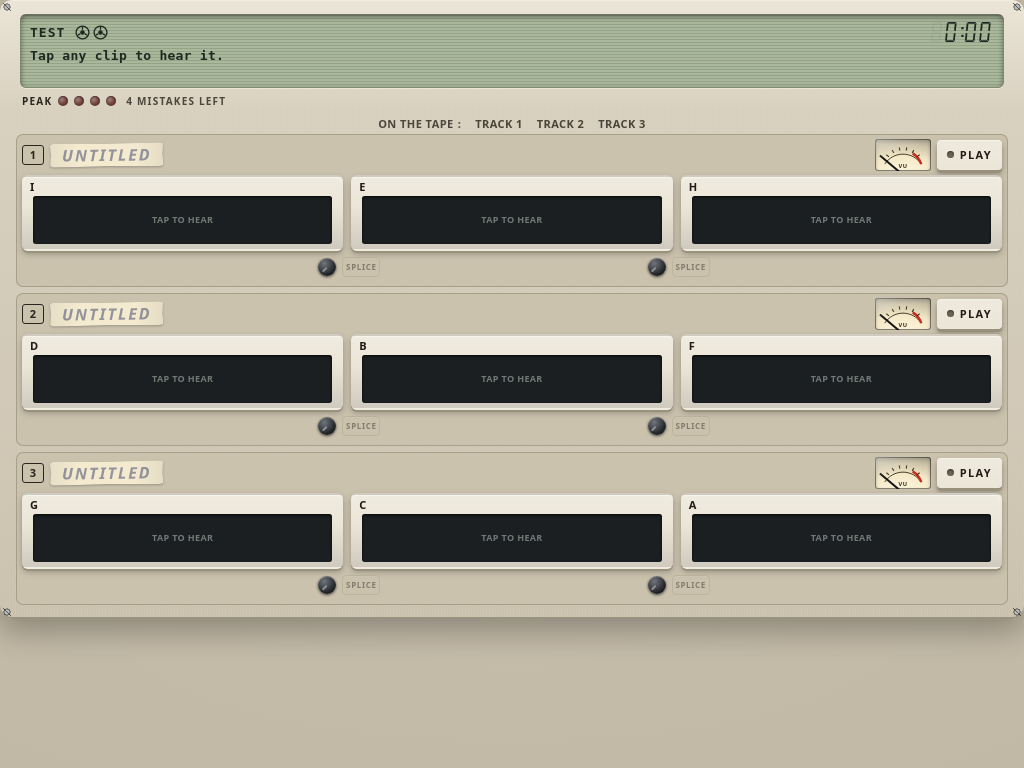
Test: Puzzle › splices only a heard join, charging a mistake when it is wrong
The image size is (1024, 768).
expect the button with aria-label "Splice clips" is disabled: met, box [342, 257, 380, 277]
Click the button named "Hear the join" at (327, 267), box [314, 253, 340, 281]
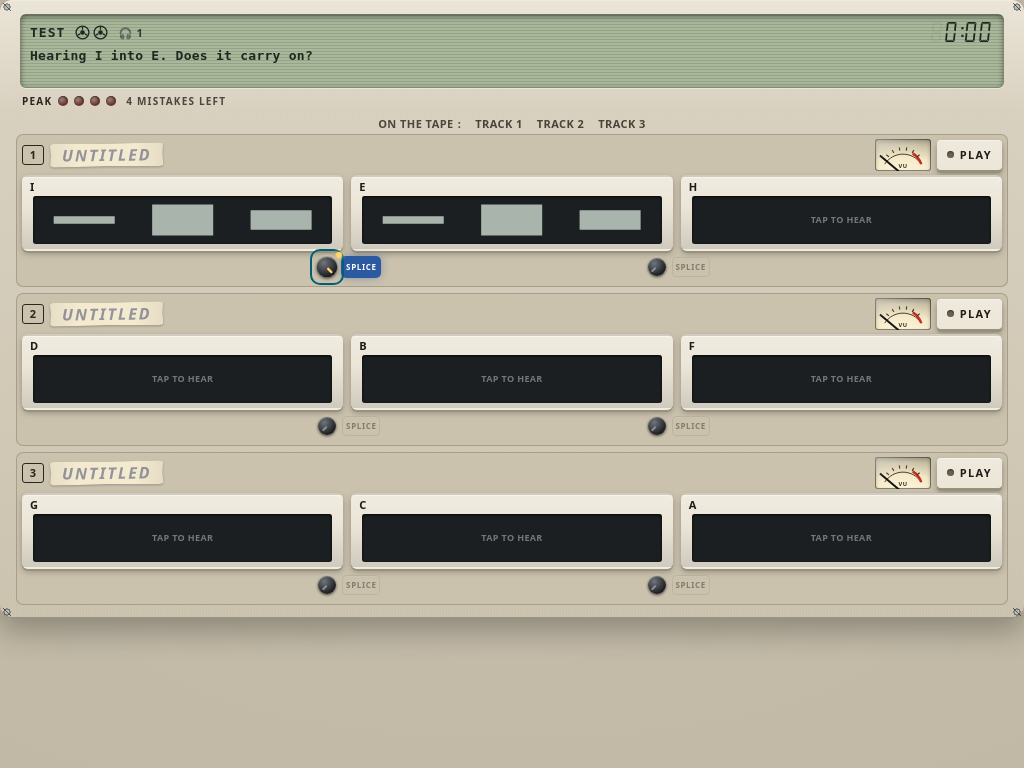
expect the button with aria-label "Splice clips" is enabled: met
Click the button with aria-label "Splice clips" at (361, 267), box [342, 257, 380, 277]
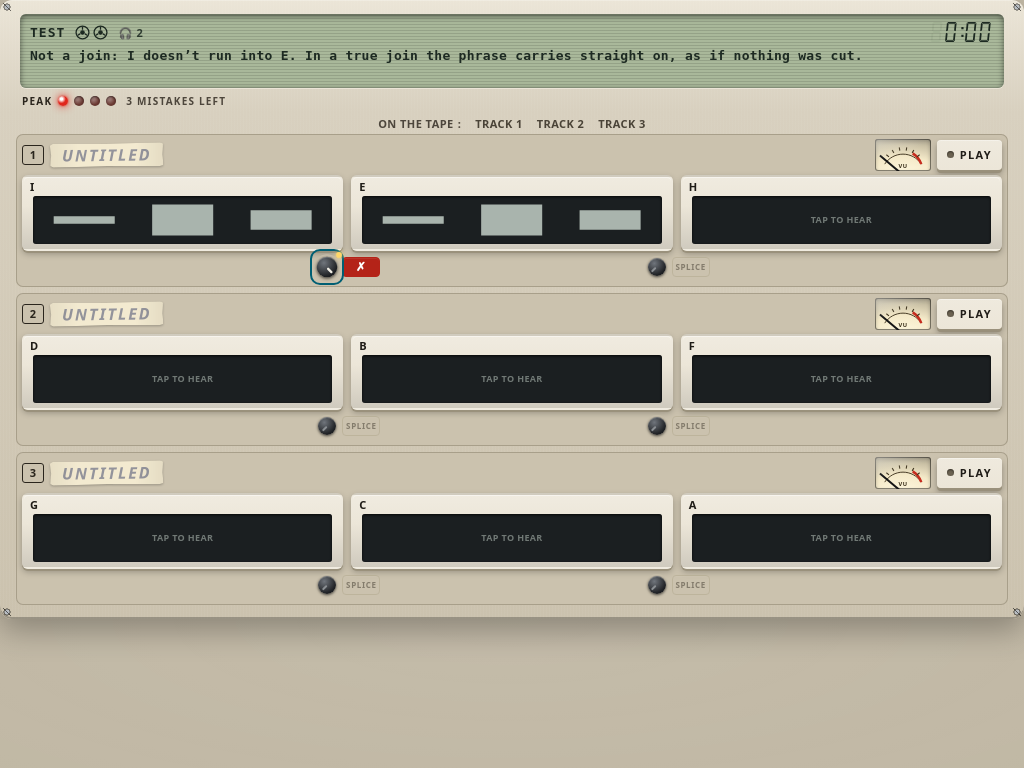
expect the picture named "3 of 4 mistakes left" is shown: met, box [22, 94, 226, 108]
expect the message shows "Not a join": met, box [30, 48, 863, 63]
expect the button named ": not a join" is disabled: met, box [342, 257, 380, 277]
